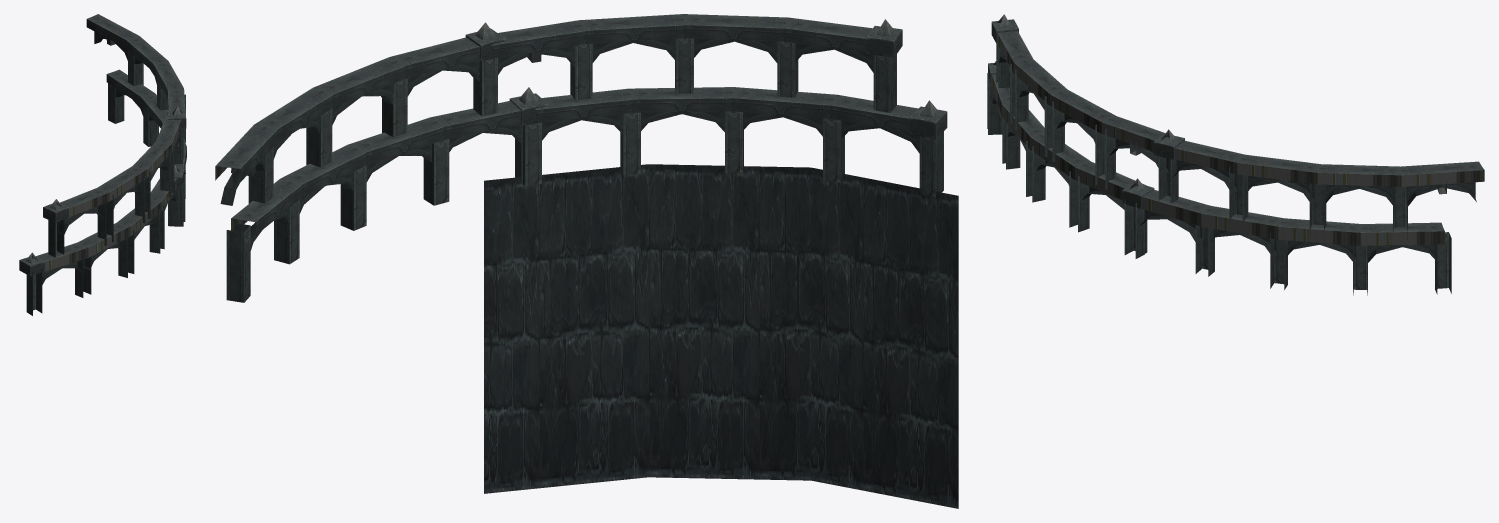
File: jjctouying.FBX
3 renders of one model, left to right at view 1: azimuth 30°, elevation 25°; view 2: azimuth 150°, elevation 25°; view 3: azimuth 270°, elevation 25°, orthographic. The views are drawn at different scales.
Parts seen in each view (by area): view 1: jjctouying; view 2: jjctouying; view 3: jjctouying.
Part boxes in pixels (x1,y1,x2,y2): jjctouying: (19,14,186,315); jjctouying: (215,14,958,508); jjctouying: (987,14,1484,295).
Size of the model in its own units: 37.44 by 37.4 by 44.58.
